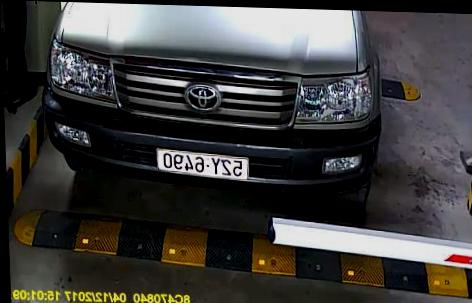License_Plate: (152, 149, 252, 180)
